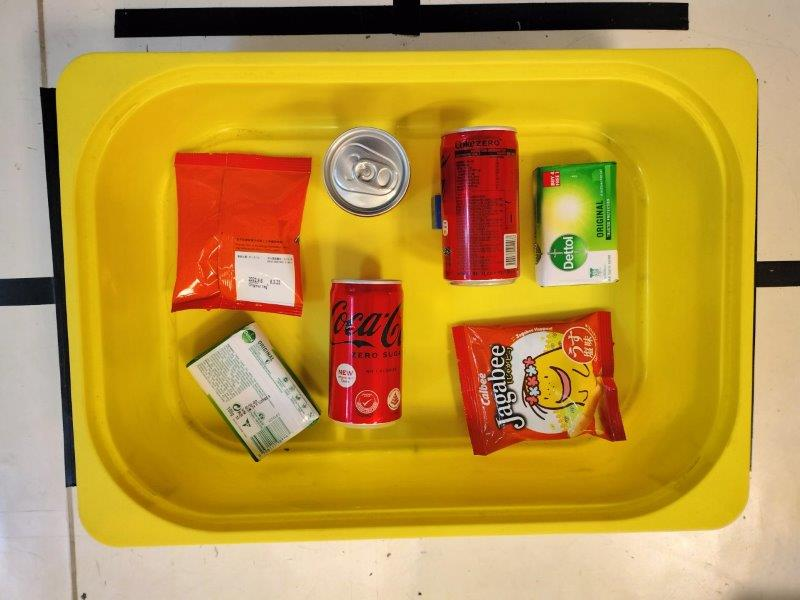Coke: (442, 128, 521, 285), (329, 278, 404, 430), (324, 126, 411, 218)
Dettol: (185, 321, 320, 462), (533, 162, 620, 287)
Jagabee: (452, 312, 628, 456), (170, 152, 311, 318)
